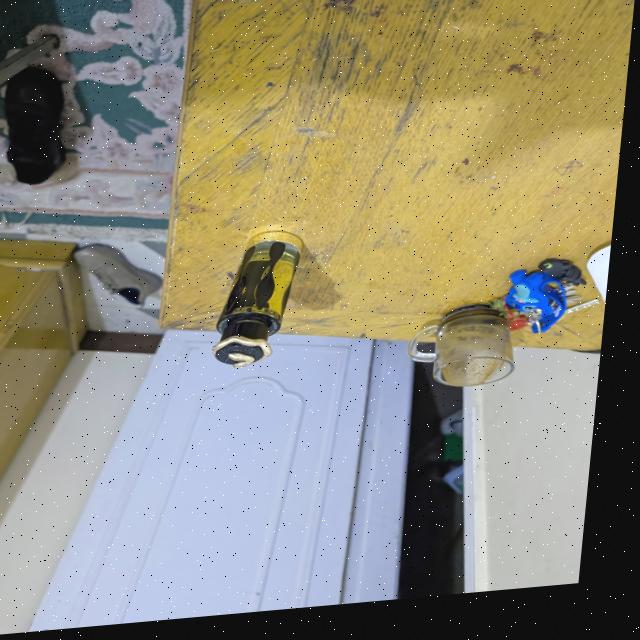Teriaq-Intense: (215, 232, 313, 378)
